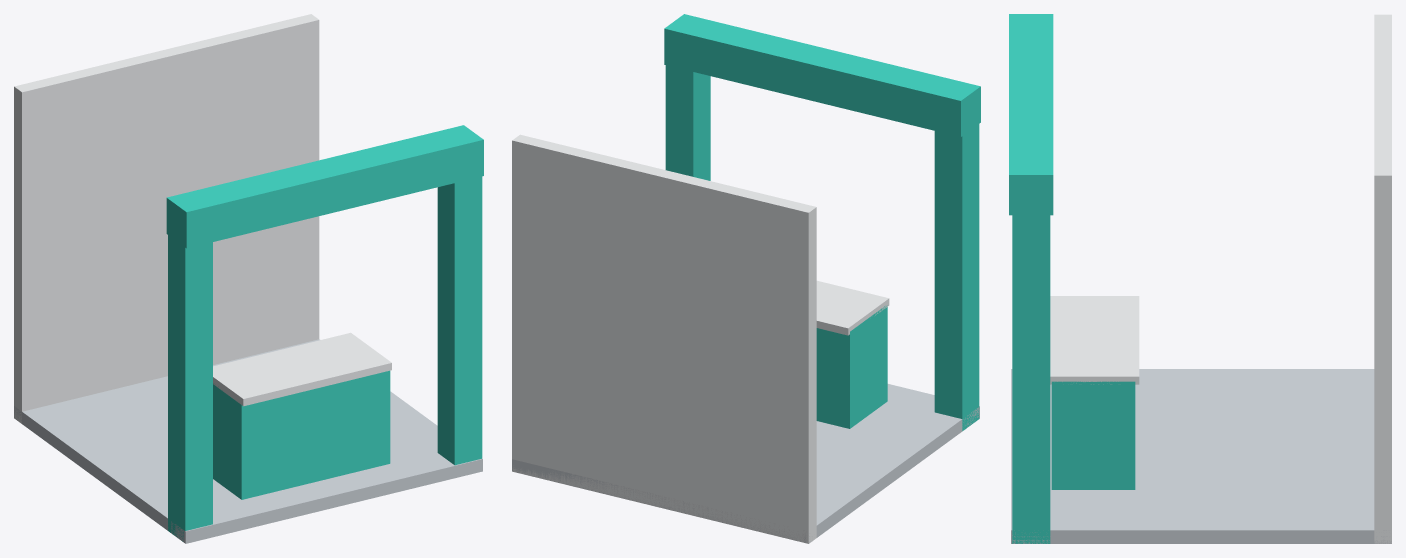
3 renders of one model, left to right at view 1: azimuth 30°, elevation 25°; view 2: azimuth 150°, elevation 25°; view 3: azimuth 270°, elevation 25°, orthographic. The views are drawn at different scales.
Visible parts, largest first — view 1: Exhibition Booth Concept; view 2: Exhibition Booth Concept; view 3: Exhibition Booth Concept.
Boxes of the visible parts, x1,y1,x2,y2 form: Exhibition Booth Concept: (14, 14, 483, 543); Exhibition Booth Concept: (512, 14, 980, 543); Exhibition Booth Concept: (1009, 14, 1391, 543).
Size of the model in its own units: 3 by 3.2 by 3.01.
